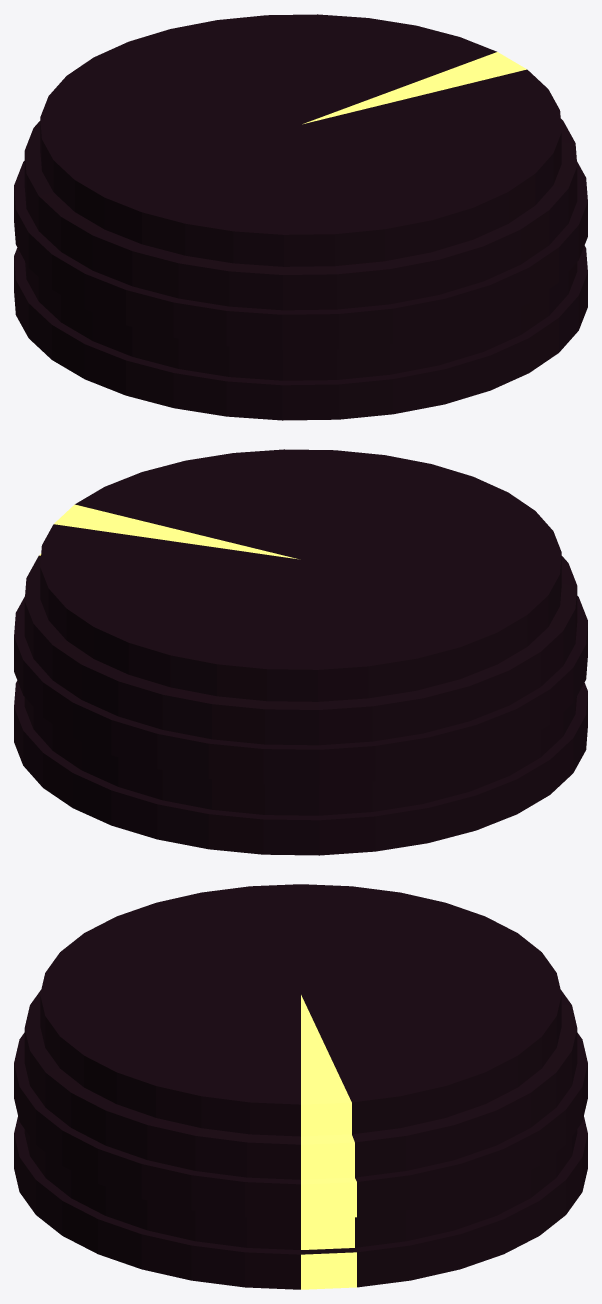
Rendered from TestTurrettaban.fbx.
3 renders of one model, top to bottom at view 1: azimuth 30°, elevation 25°; view 2: azimuth 150°, elevation 25°; view 3: azimuth 270°, elevation 25°, orthographic.
Visible parts, largest first — view 1: Cylinder; view 2: Cylinder; view 3: Cylinder.
Boxes of the visible parts, bbox=[...] form: Cylinder: bbox=[14, 14, 587, 420]; Cylinder: bbox=[14, 449, 587, 855]; Cylinder: bbox=[14, 884, 587, 1289].
Size of the model in its own units: 349 by 349 by 117.
